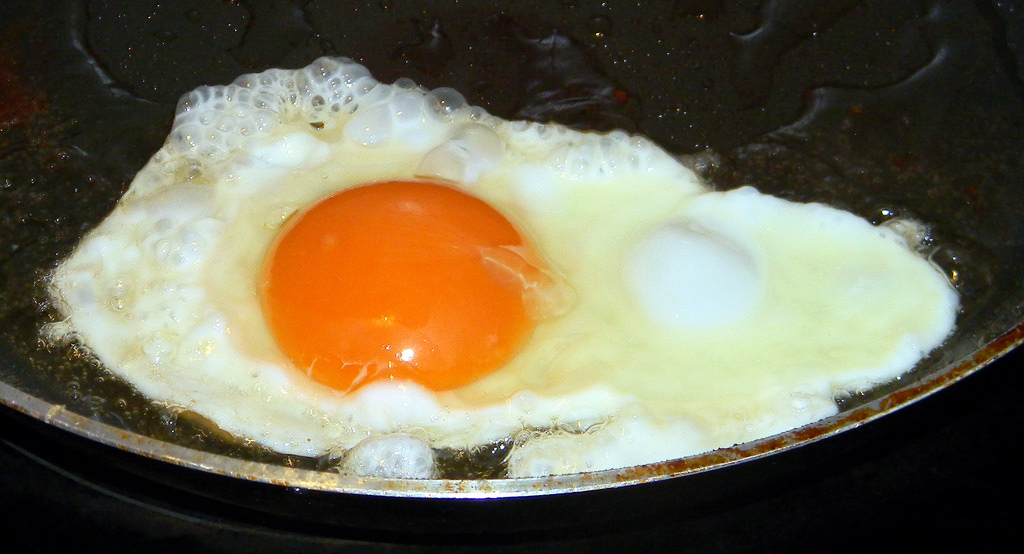fried egg: (166, 146, 836, 428)
